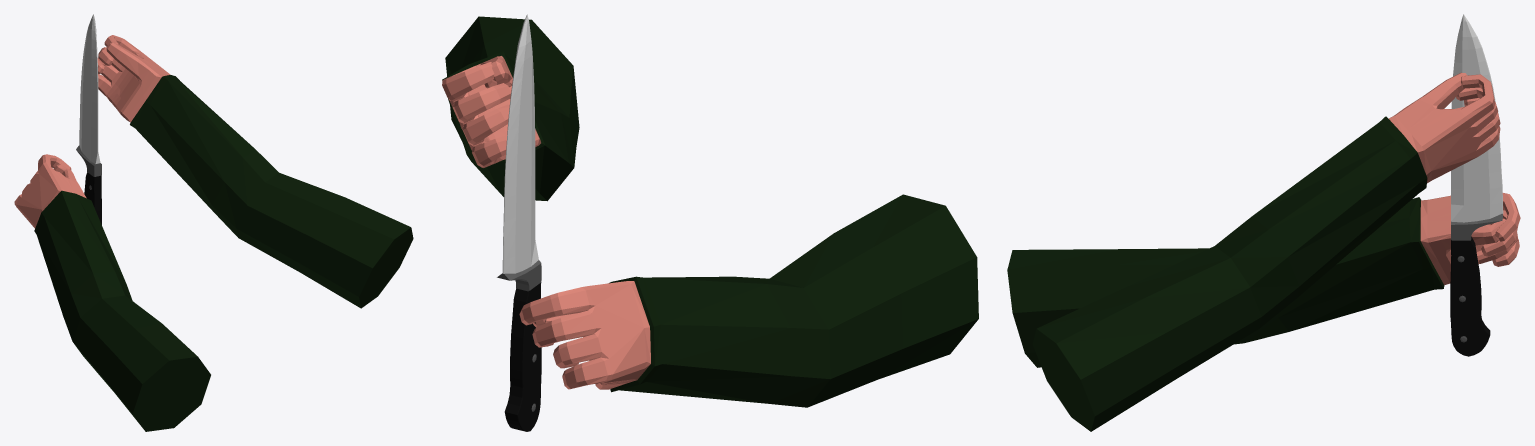
Rendered from vm_knife.glb.
3 renders of one model, left to right at view 1: azimuth 30°, elevation 25°; view 2: azimuth 150°, elevation 25°; view 3: azimuth 270°, elevation 25°, orthographic. The views are drawn at different scales.
Parts seen in each view (by area): view 1: arms, gun; view 2: arms, gun; view 3: arms, gun.
Boxes of the visible parts, x1,y1,x2,y2 form: arms: (14,35,413,431); gun: (76,14,101,224); arms: (442,16,978,407); gun: (497,14,541,431); arms: (1007,72,1520,431); gun: (1450,14,1503,356).
Size of the model in its own units: 1.29 by 1.19 by 1.37.
